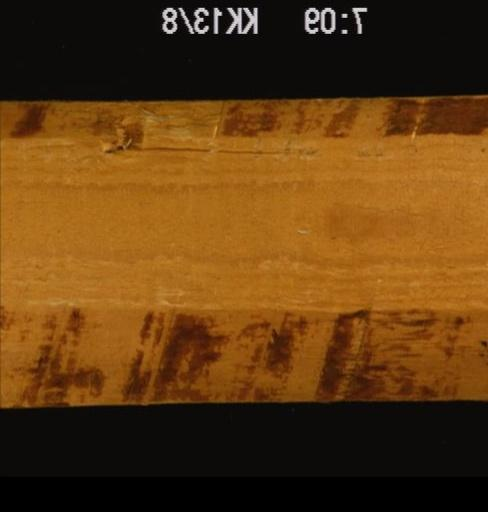split: (103, 134, 304, 157)
wave: (0, 281, 486, 406), (0, 95, 486, 161)
